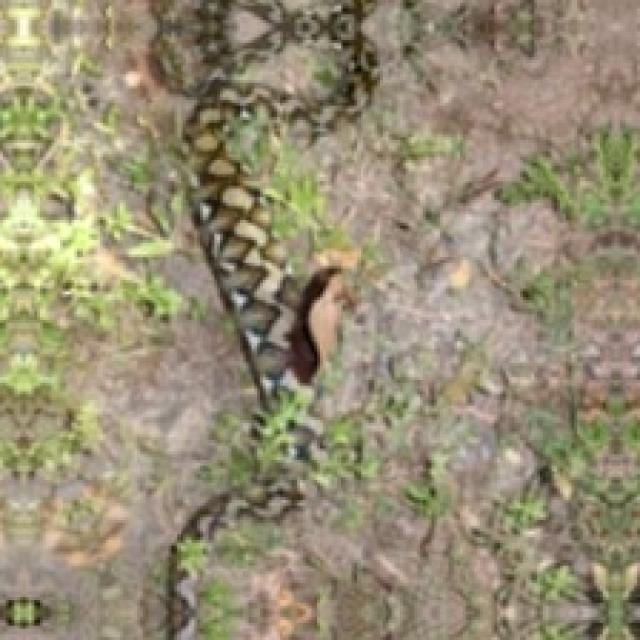reticulated python: (155, 0, 378, 639)
